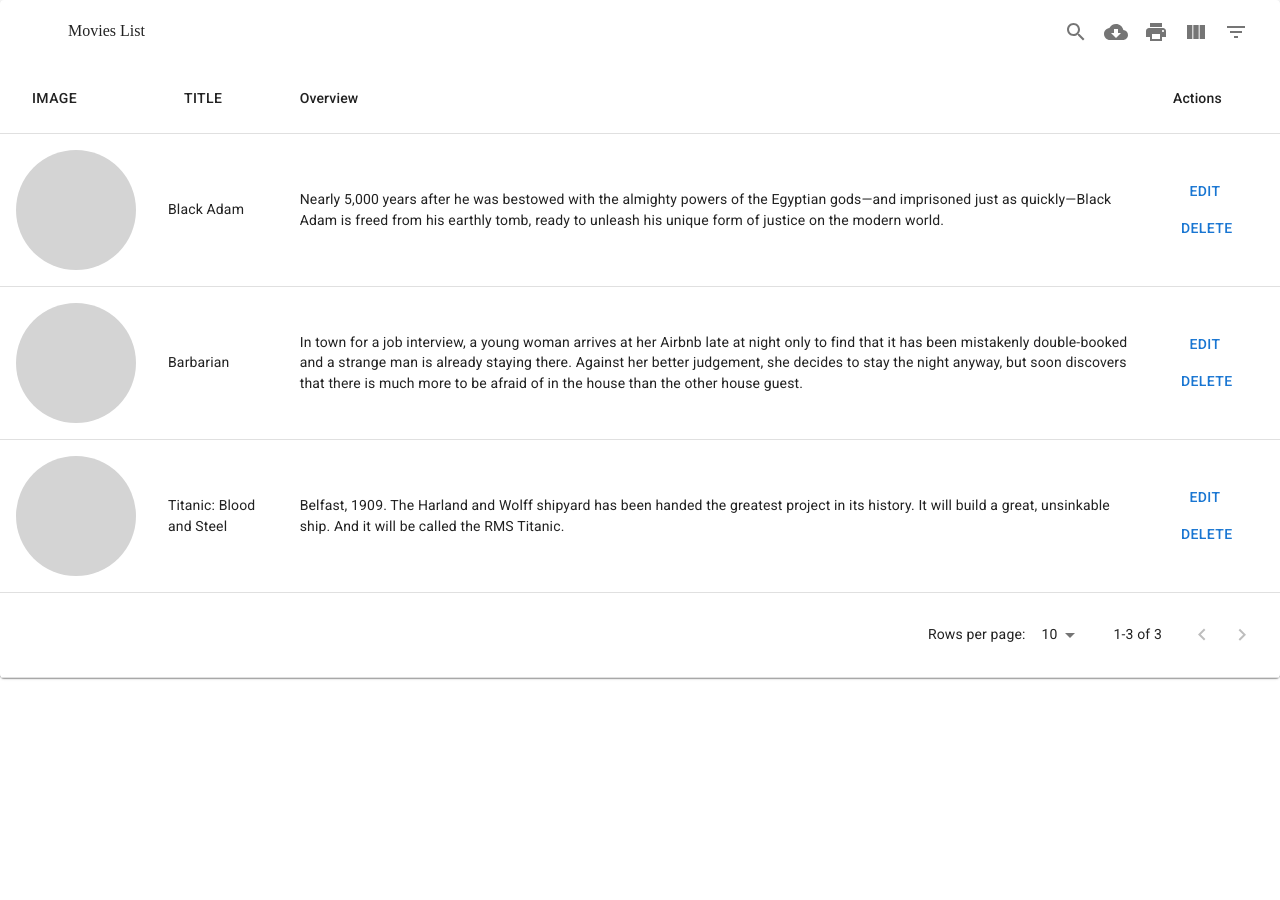
Test: <MovieTable /> › should render modal title
Step 1. Click the button with test id "editButton" → (1205, 191), box [1173,173,1237,210]
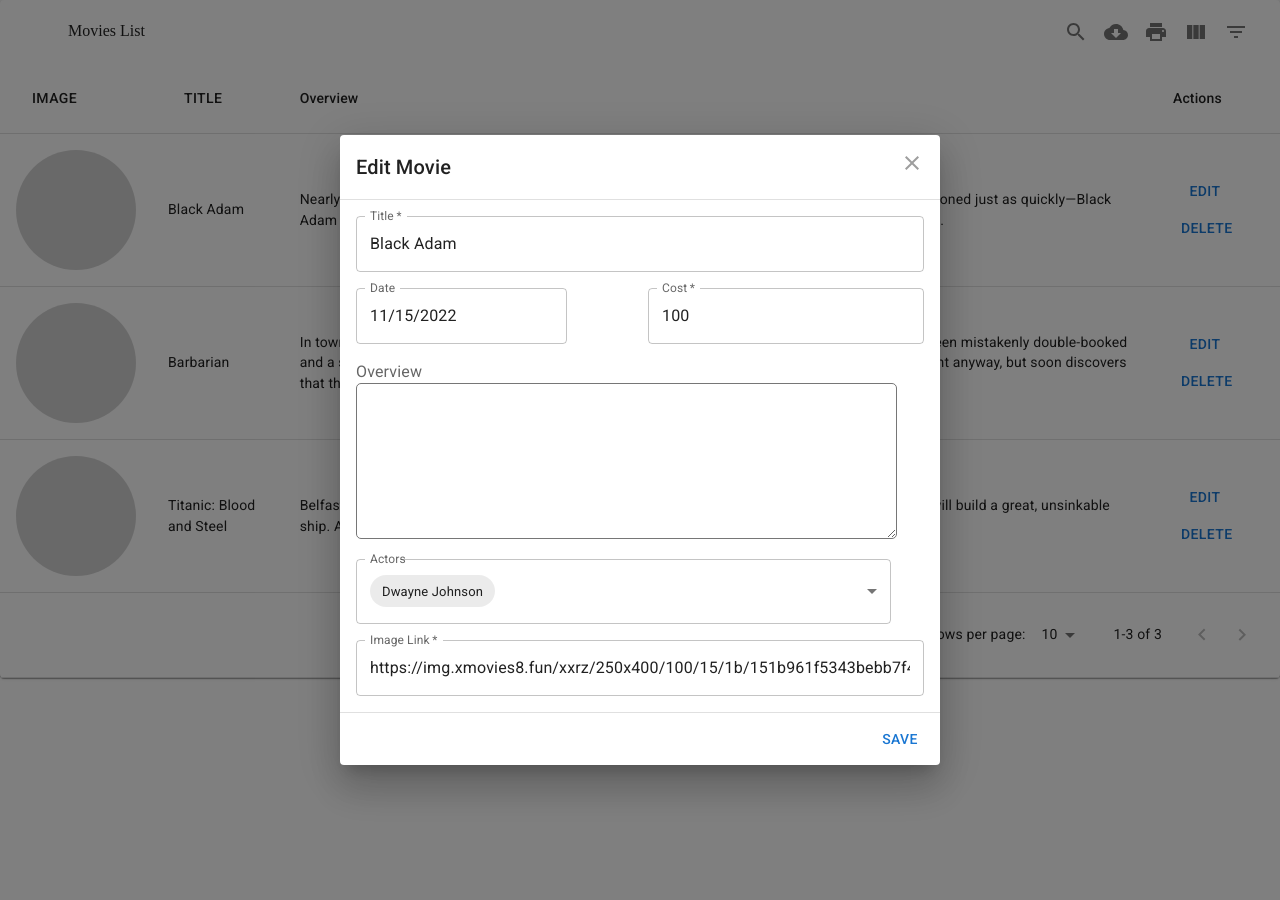
Now the heading "Edit Movie" is shown, box [340,135,940,199]
